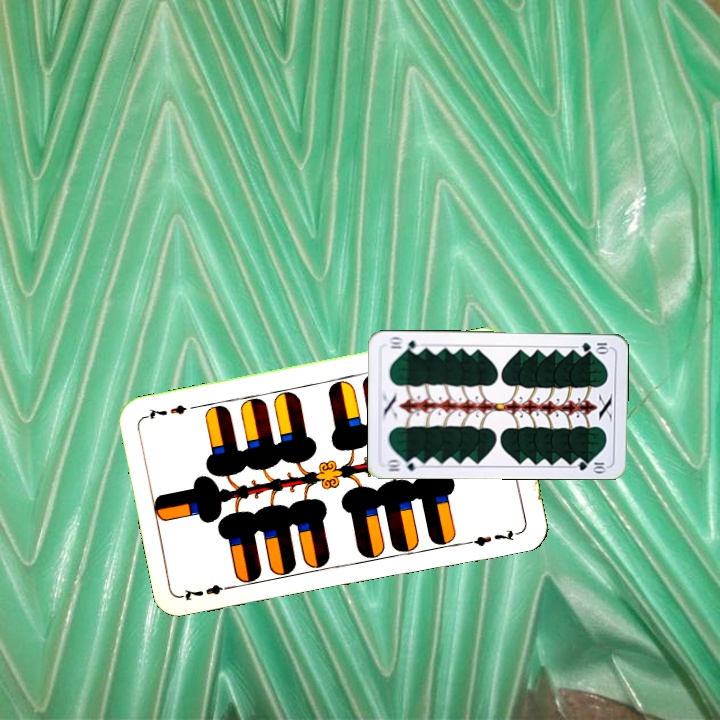E7: (178, 580, 237, 603)
G10: (382, 454, 423, 474), (578, 339, 612, 354)
